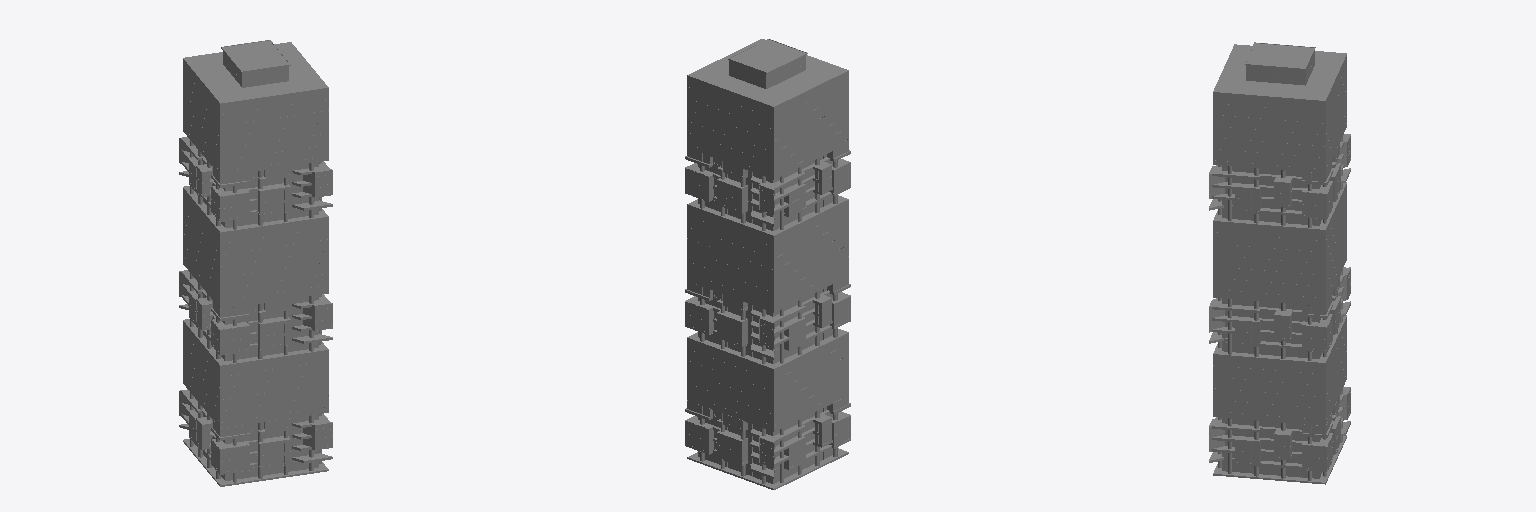
3 views of the same model, side by side, from view 1: azimuth 30°, elevation 25°; view 2: azimuth 150°, elevation 25°; view 3: azimuth 270°, elevation 25° (orthographic).
Parts seen in each view (by area): view 1: JZ_JX_20; view 2: JZ_JX_20; view 3: JZ_JX_20.
Boxes of the visible parts, box(x1,y1,x2,y2) form: JZ_JX_20: box(179, 40, 332, 486); JZ_JX_20: box(685, 39, 850, 489); JZ_JX_20: box(1209, 42, 1350, 484).
Size of the model in its own units: 3094 by 9924 by 3205.